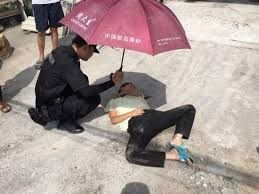falling: (101, 70, 206, 169)
